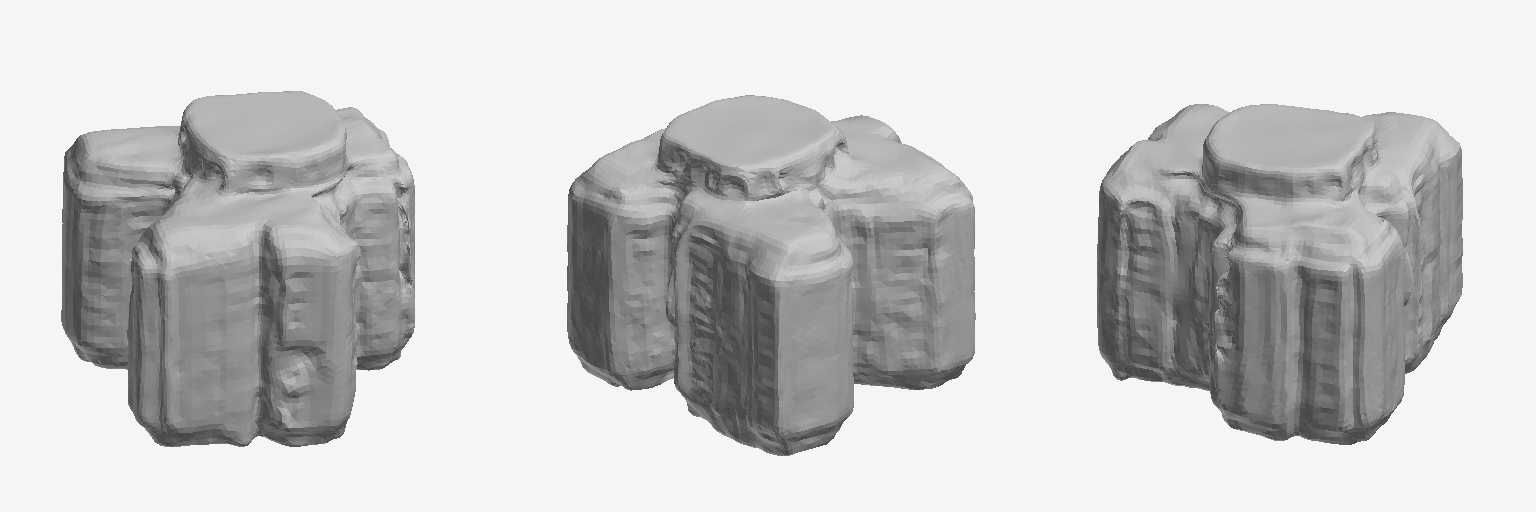
The model's file is 85938cd3cce1_sci_fi_residential_.obj.
3 renders of one model, left to right at view 1: azimuth 30°, elevation 25°; view 2: azimuth 150°, elevation 25°; view 3: azimuth 270°, elevation 25°, orthographic.
Visible parts, largest first — view 1: mesh; view 2: mesh; view 3: mesh.
Part boxes in pixels (x1,y1,x2,y2): mesh: (61,91,414,446); mesh: (567,95,975,455); mesh: (1097,104,1462,444).
Size of the model in its own units: 0.9982 by 0.748 by 0.9743.